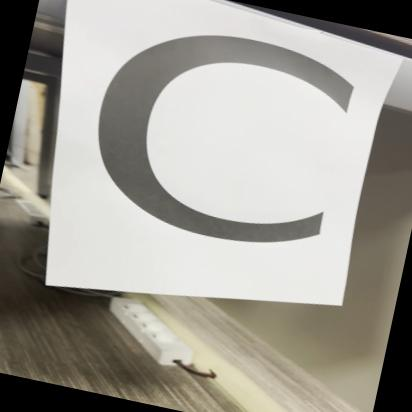seat: (71, 3, 390, 294)
